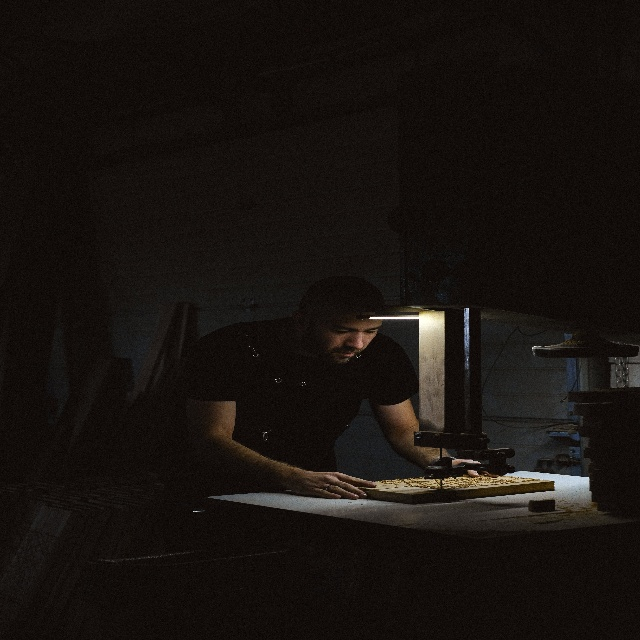Sin_guantes: (292, 461, 378, 501), (450, 454, 497, 480)
